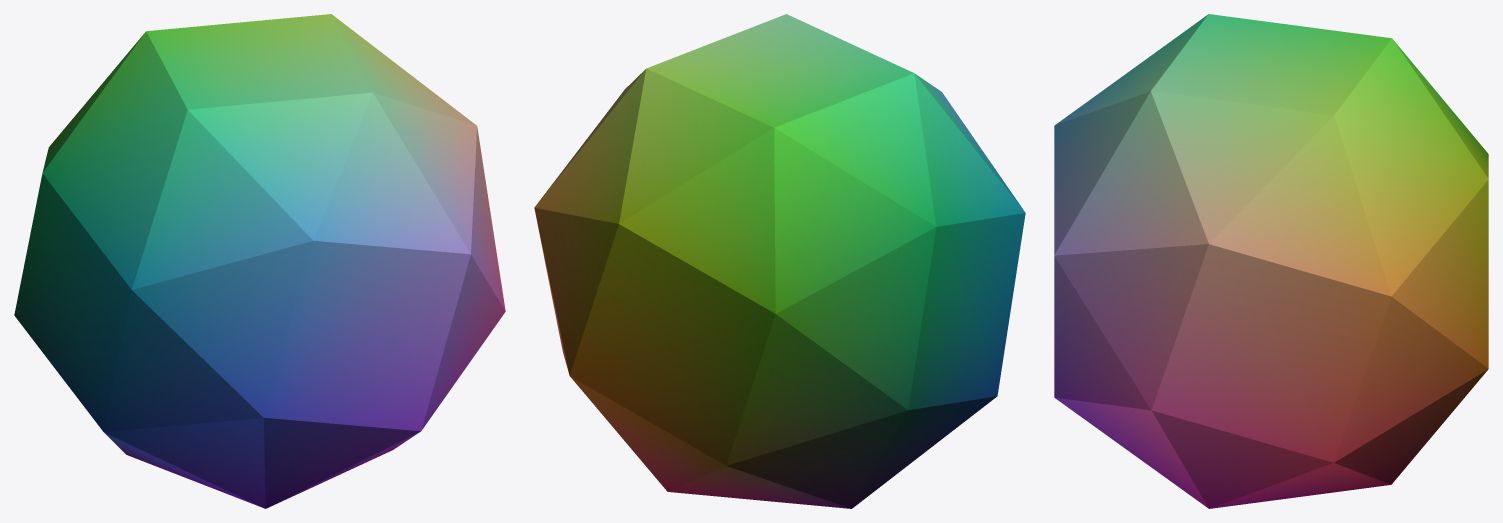
File: zeometry-polyhedra-snub-cube_v1.glb
The picture shows the model from 3 angles, left to right: view 1: azimuth 30°, elevation 25°; view 2: azimuth 150°, elevation 25°; view 3: azimuth 270°, elevation 25°; orthographic projection.
Parts seen in each view (by area): view 1: Snub Cube; view 2: Snub Cube; view 3: Snub Cube.
Part boxes in pixels (x1,y1,x2,y2): Snub Cube: [14, 14, 505, 508]; Snub Cube: [534, 14, 1025, 508]; Snub Cube: [1054, 14, 1488, 508].
Size of the model in its own units: 0.5 by 0.5 by 0.5.
